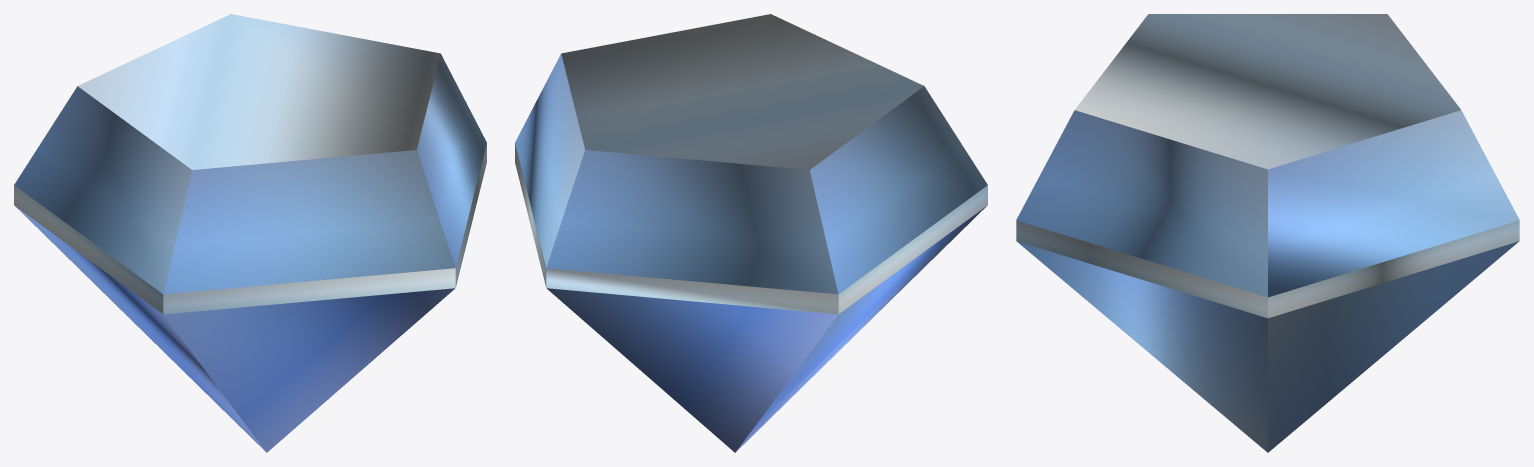
The model's file is gem03.fbx.
3 renders of one model, left to right at view 1: azimuth 30°, elevation 25°; view 2: azimuth 150°, elevation 25°; view 3: azimuth 270°, elevation 25°, orthographic. The views are drawn at different scales.
Parts seen in each view (by area): view 1: gem03; view 2: gem03; view 3: gem03.
Part boxes in pixels (x1,y1,x2,y2): gem03: [14, 14, 486, 452]; gem03: [515, 14, 987, 452]; gem03: [1016, 14, 1519, 452].
Size of the model in its own units: 81.59 by 69.9 by 85.79.
